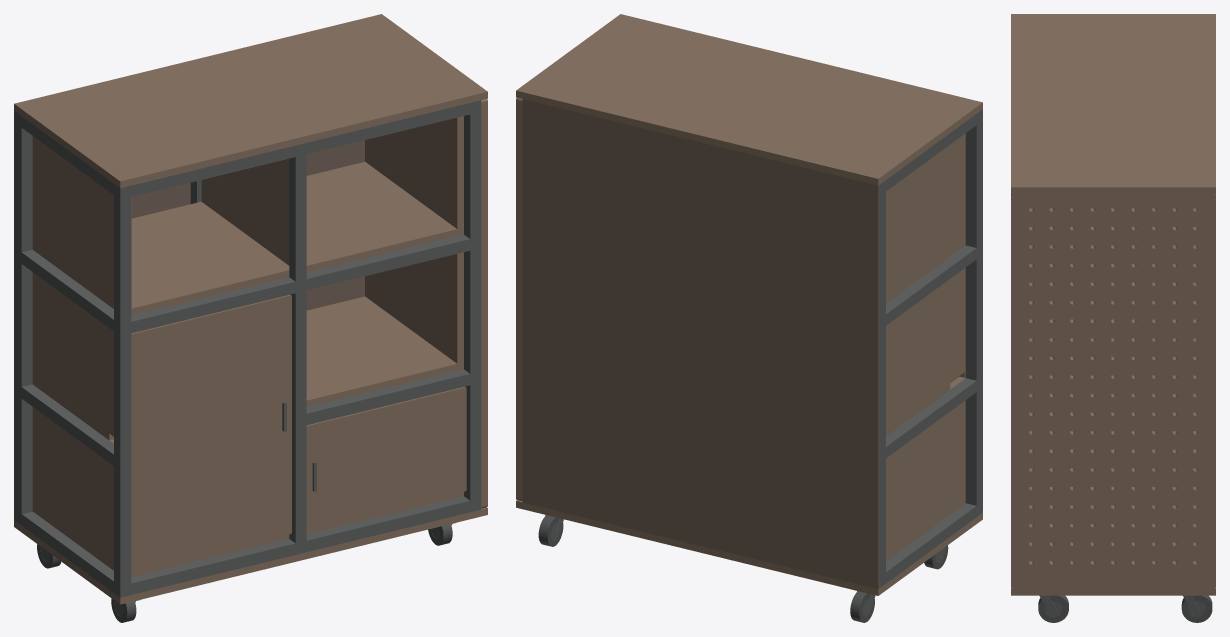
File: assembled.glb
3 views of the same model, side by side, from view 1: azimuth 30°, elevation 25°; view 2: azimuth 150°, elevation 25°; view 3: azimuth 270°, elevation 25° (orthographic). The views are drawn at different scales.
Visible parts, largest first — view 1: B04-top, B60-left-door, B03-shelf, B61-right-door, B02-shelf, B22-left-side, B21-left-side, B20-left-side, A-post-0-0, B32-right-side, A-post-2-0, B31-right-side (+18 smaller); view 2: B40-back, B04-top, B22-left-side, B21-left-side, B20-left-side, A-post-0-0, B00-base, A-post-0-1, B50-pegboard, A-depth-1-0, A-depth-2-0, A-depth-0-0 (+1 smaller); view 3: B50-pegboard, B04-top, B00-base, caster-3-tire, caster-1-tire.
Boxes of the visible parts, x1,y1,x2,y2 form: B04-top: (14,14,487,188); B60-left-door: (131,294,291,572); B03-shelf: (32,162,463,315); B61-right-door: (306,386,466,529); B02-shelf: (32,296,463,440); B22-left-side: (32,136,131,308); B21-left-side: (32,272,113,436); B20-left-side: (32,407,113,563); A-post-0-0: (114,184,131,597); B32-right-side: (365,116,463,228); A-post-2-0: (464,100,481,512); B31-right-side: (365,252,463,363); B40-back: (522,99,879,589); B04-top: (516,14,982,185); B22-left-side: (886,133,965,296); B21-left-side: (886,268,965,429); B20-left-side: (886,376,965,554); A-post-0-0: (965,109,982,516); B00-base: (516,500,982,595); A-post-0-1: (879,180,885,587); B50-pegboard: (516,97,522,501); A-depth-1-0: (886,378,976,458); A-depth-2-0: (886,245,976,325); A-depth-0-0: (886,503,976,583); B50-pegboard: (1011,194,1215,588); B04-top: (1011,14,1215,193); B00-base: (1011,587,1215,595); caster-3-tire: (1181,595,1212,622); caster-1-tire: (1038,595,1068,622).
Bounding box in the file's own units: 1 × 1.2 × 0.5.
